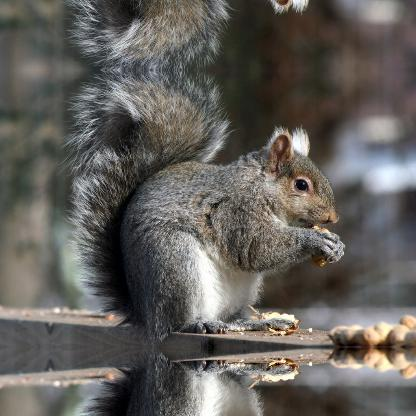Squirrel: (64, 69, 346, 343), (63, 0, 347, 70), (63, 349, 347, 415)
